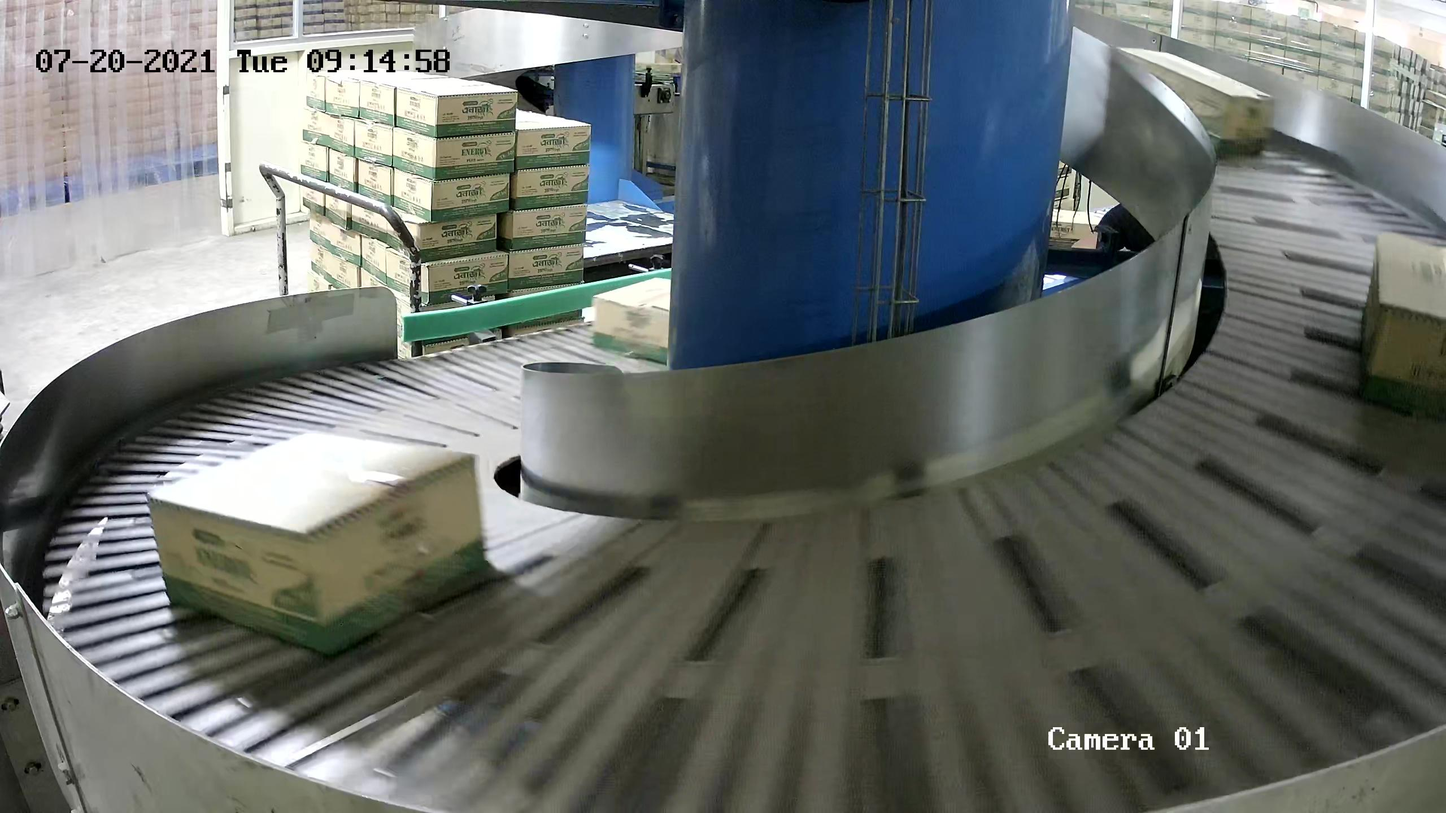Box: (145, 431, 486, 657), (1114, 45, 1274, 155), (1359, 230, 1446, 418), (591, 276, 671, 364)
